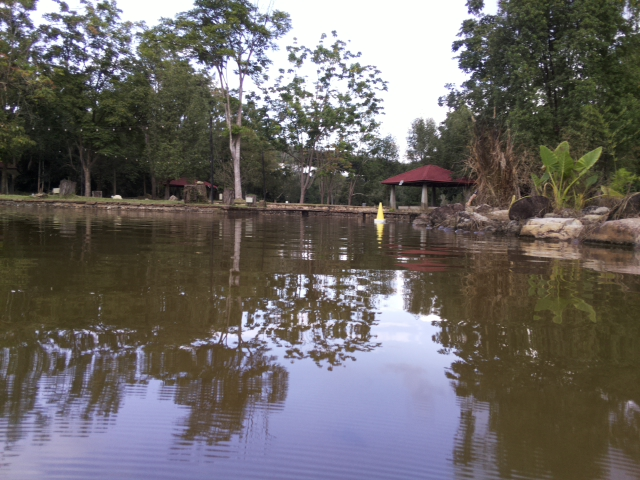checkpoint: (373, 201, 387, 225)
